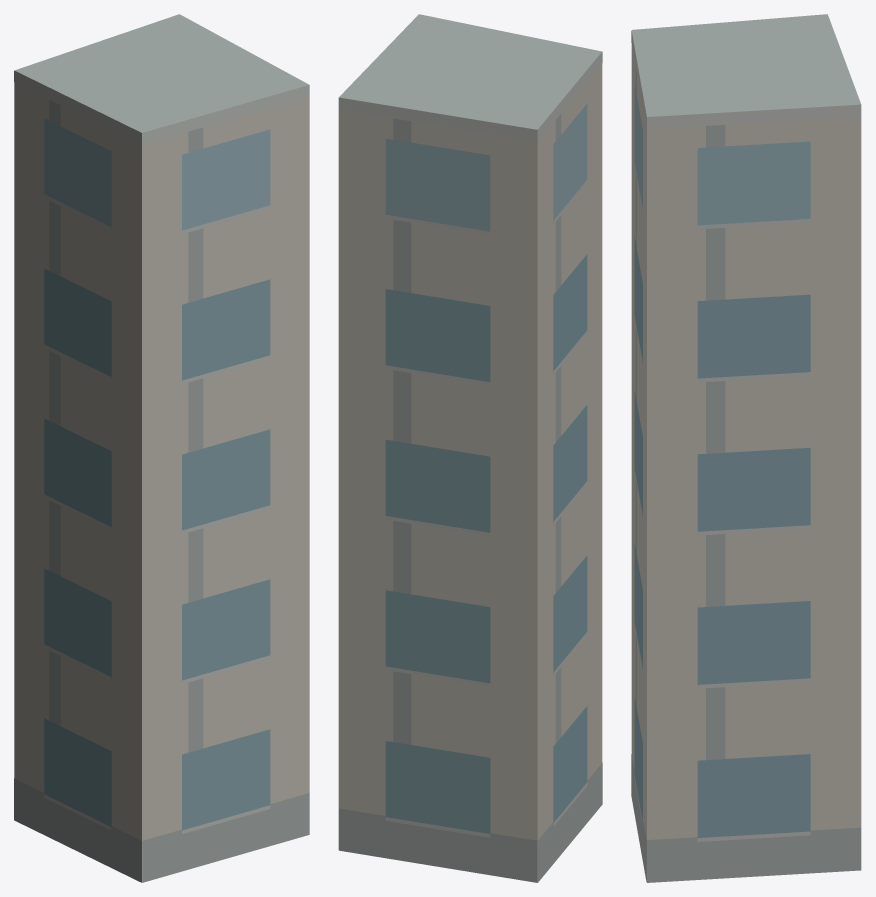
Rendered from survey-upis-32939934.glb.
3 views of the same model, side by side, from view 1: azimuth 30°, elevation 25°; view 2: azimuth 150°, elevation 25°; view 3: azimuth 270°, elevation 25° (orthographic). The views are drawn at different scales.
Visible parts, largest first — view 1: survey-upis-32939934.tmp; view 2: survey-upis-32939934.tmp; view 3: survey-upis-32939934.tmp.
Part boxes in pixels (bbox=[...]): survey-upis-32939934.tmp: bbox=[14, 14, 309, 882]; survey-upis-32939934.tmp: bbox=[338, 14, 602, 882]; survey-upis-32939934.tmp: bbox=[631, 14, 861, 882].
Size of the model in its own units: 4.41 by 15.25 by 4.16.
